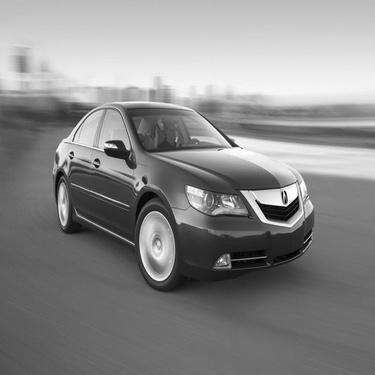car: (45, 94, 320, 298)
